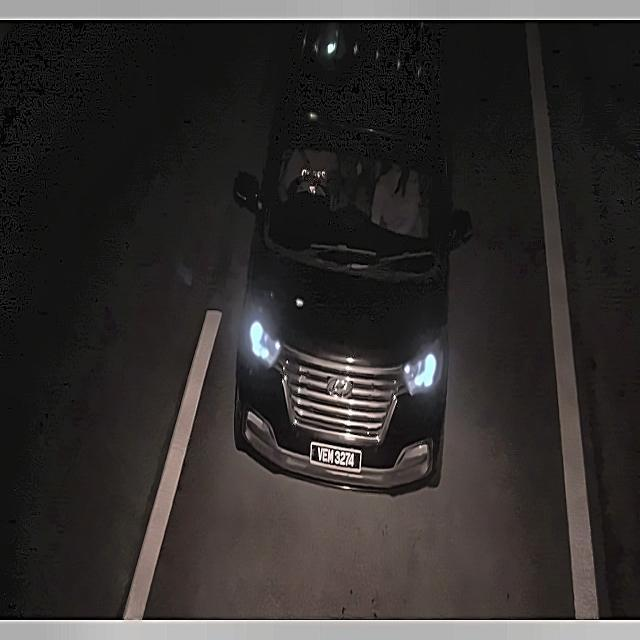car: (306, 437, 366, 478)
